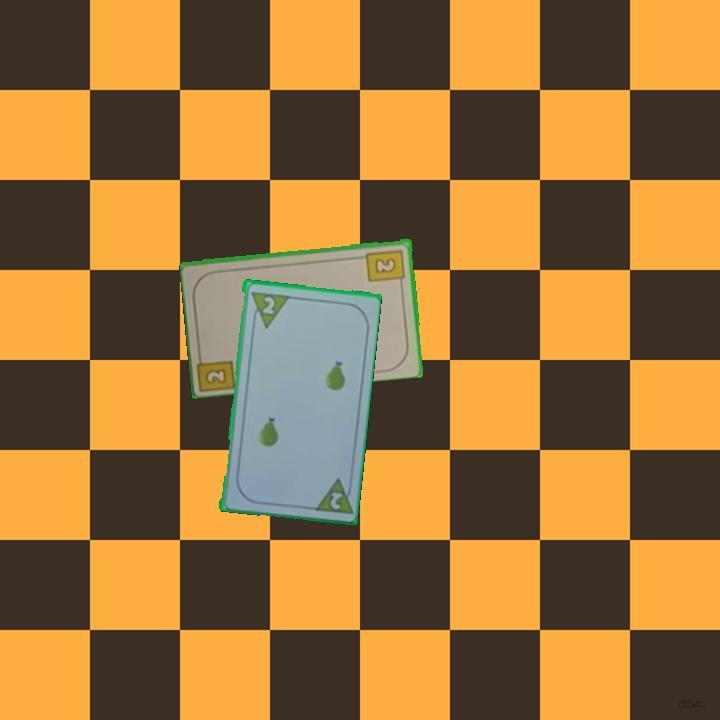2b: (195, 348, 240, 393), (363, 246, 408, 288)
2p: (309, 474, 355, 517), (259, 293, 277, 317)
